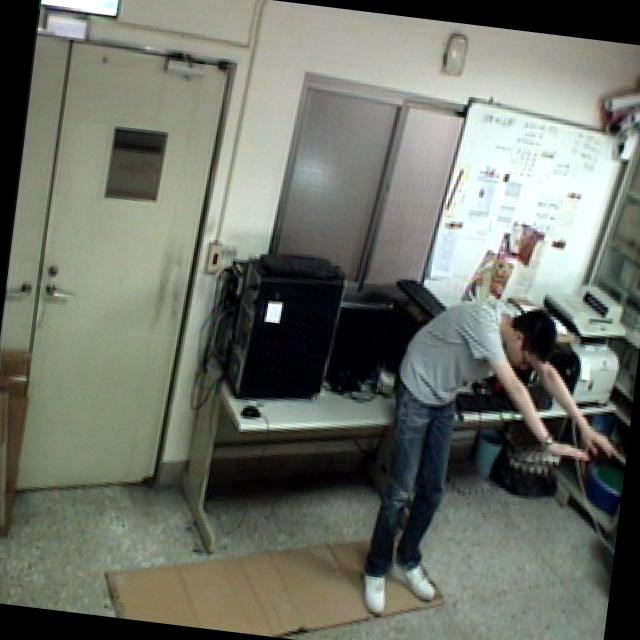bend: (343, 283, 634, 640)
